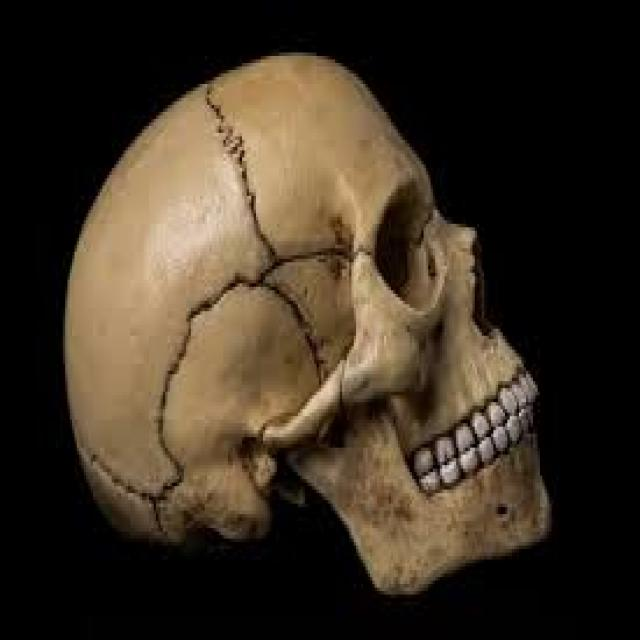skull: (58, 28, 572, 600)
